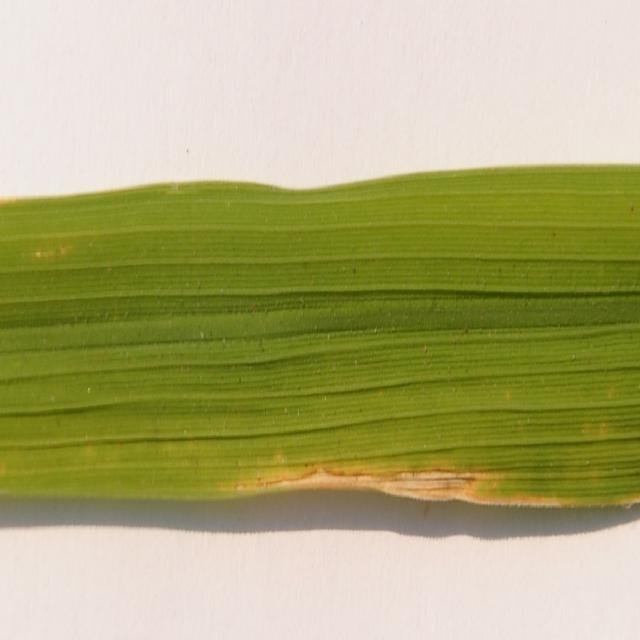Unhealthy: (216, 446, 570, 509)
